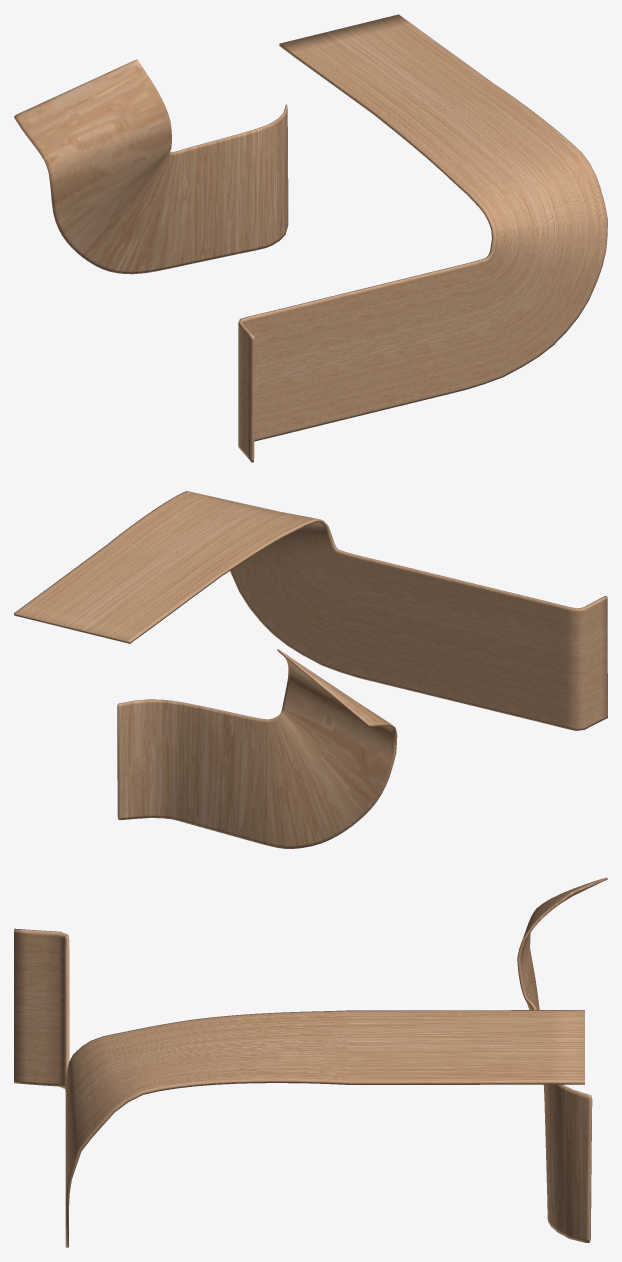
Rendered from timeline2.fbx.
3 renders of one model, top to bottom at view 1: azimuth 30°, elevation 25°; view 2: azimuth 150°, elevation 25°; view 3: azimuth 270°, elevation 25°, orthographic. The views are drawn at different scales.
Parts seen in each view (by area): view 1: timeline, timeline2; view 2: timeline, timeline2; view 3: timeline, timeline2.
Part boxes in pixels (x1,y1,x2,y2): timeline: (238, 14, 607, 462); timeline2: (14, 59, 288, 274); timeline: (14, 491, 607, 730); timeline2: (117, 649, 397, 848); timeline: (14, 928, 584, 1247); timeline2: (517, 877, 607, 1242).
Bounding box in the file's own units: 2847 × 1492 × 3104.
1 material, 1 textured.
